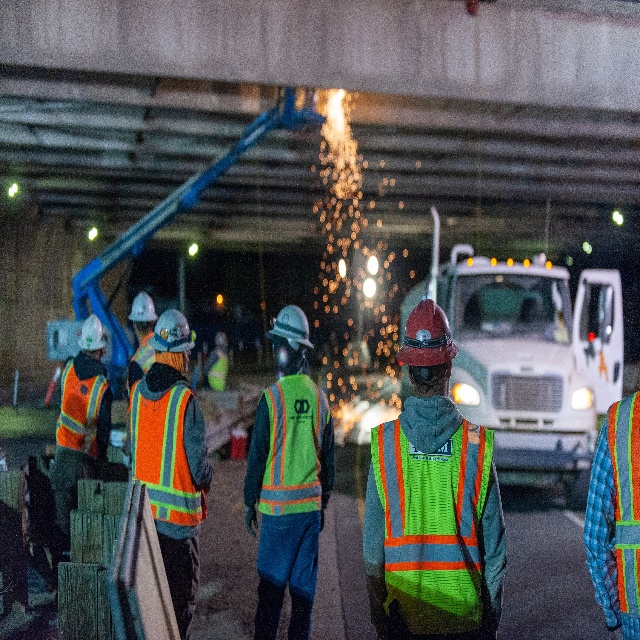Guantes: (243, 501, 257, 539)
